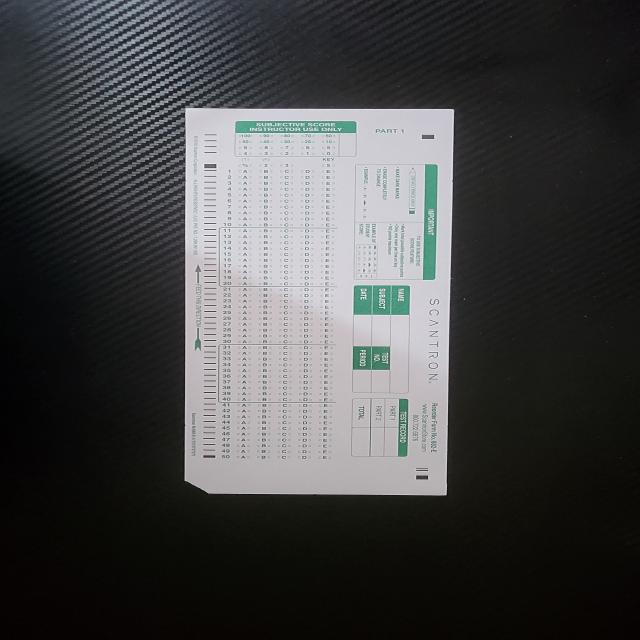scantron: (185, 108, 455, 495)
